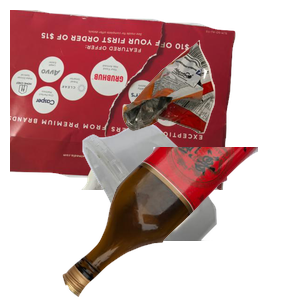glass: (60, 147, 300, 300)
paper: (10, 10, 238, 190)
plastic: (80, 120, 289, 300)
trash: (120, 38, 300, 164)
